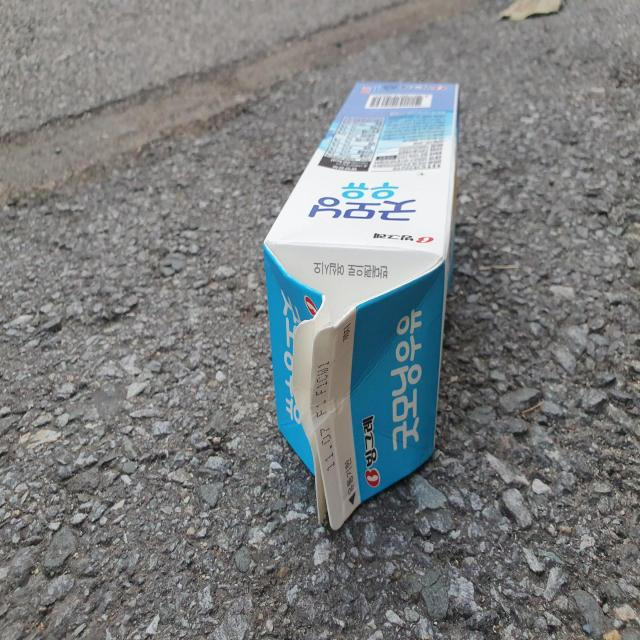paperpack: (264, 81, 459, 530)
